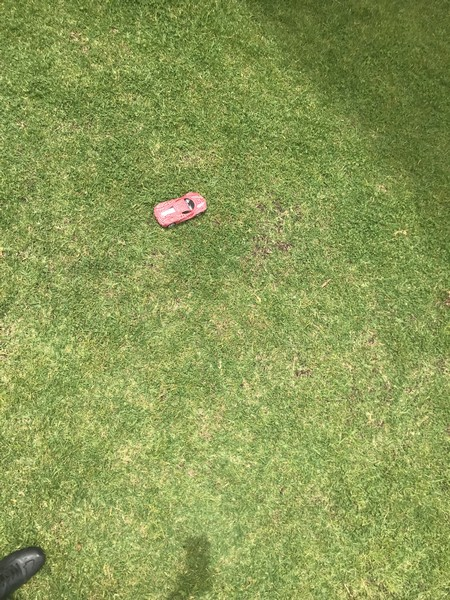RC: (152, 189, 209, 229)
